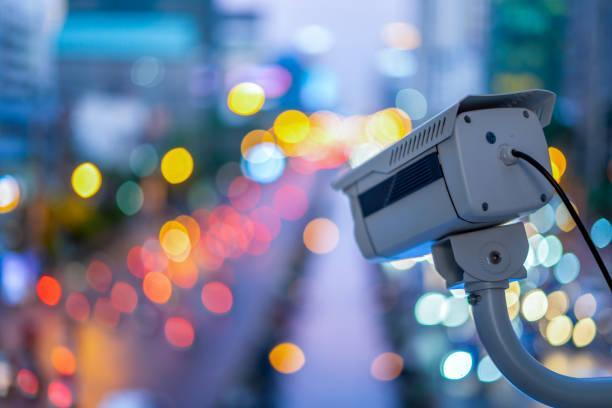camera: (323, 68, 596, 287)
